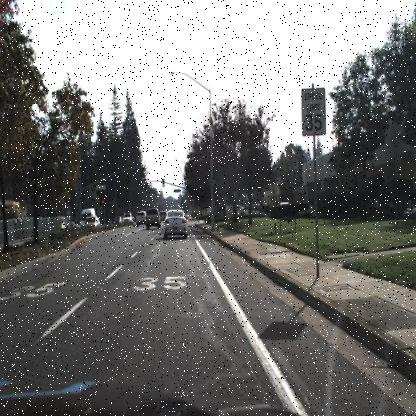car: (163, 207, 192, 242), (146, 206, 164, 234), (81, 214, 102, 230), (80, 205, 94, 228), (82, 215, 100, 229), (136, 208, 146, 228), (157, 210, 169, 223), (121, 211, 132, 223), (113, 213, 122, 224)
trafficLight-Green: (162, 176, 166, 186)
trafficLight-RedLeft: (101, 199, 105, 210), (144, 178, 148, 188)
truck: (78, 208, 95, 229)
